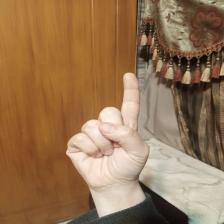one: (66, 72, 152, 196)
